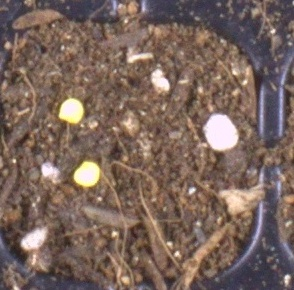chilli seed: (72, 160, 101, 187), (57, 97, 84, 124)
